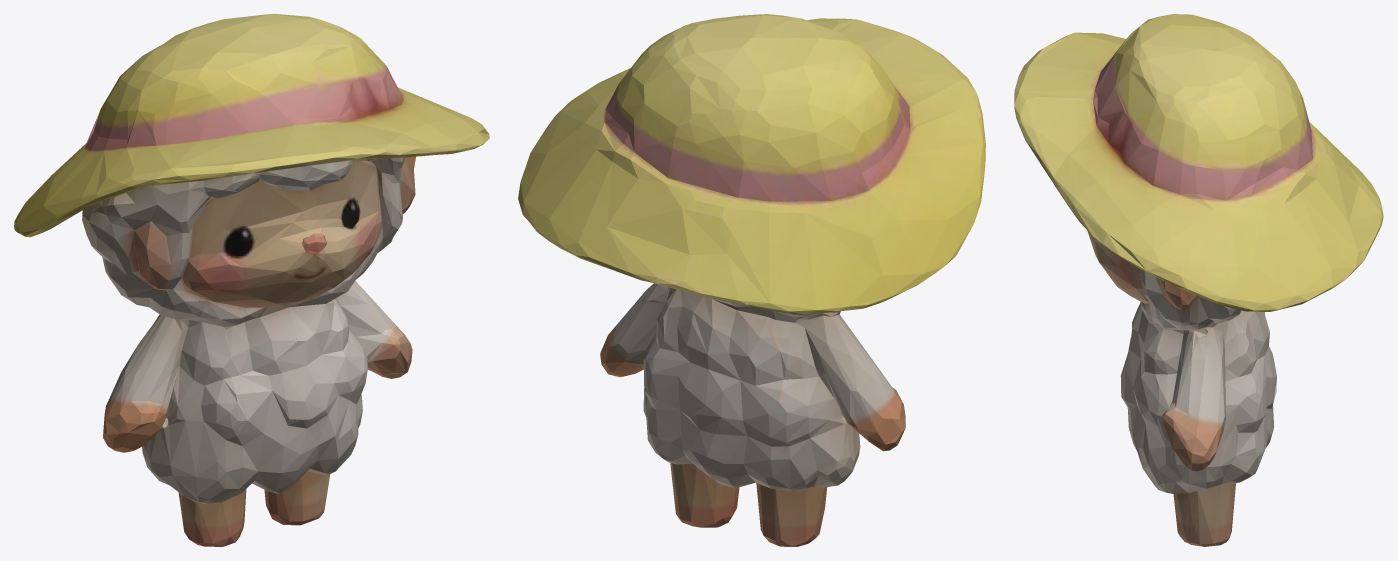
The model's file is dambi.glb.
3 renders of one model, left to right at view 1: azimuth 30°, elevation 25°; view 2: azimuth 150°, elevation 25°; view 3: azimuth 270°, elevation 25°, orthographic. The views are drawn at different scales.
Visible parts, largest first — view 1: geometry_0; view 2: geometry_0; view 3: geometry_0.
Part boxes in pixels (x1,y1,x2,y2): geometry_0: (14, 14, 489, 546); geometry_0: (518, 14, 985, 546); geometry_0: (1014, 14, 1383, 546).
Bounding box in the file's own units: 0.906 × 0.9979 × 0.7109.
Materials: 1 (1 with a texture image).
